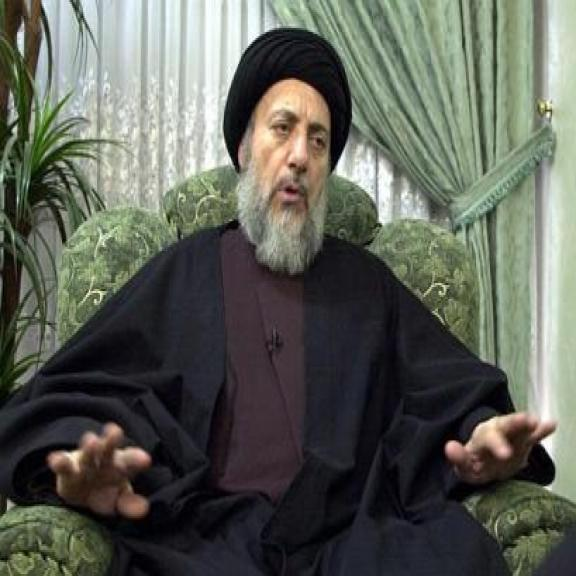face: (238, 80, 333, 266)
